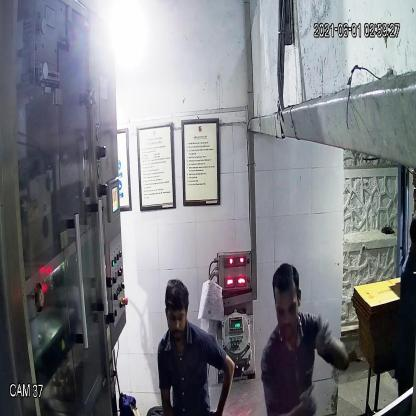no_goggles: (164, 306, 191, 327)
